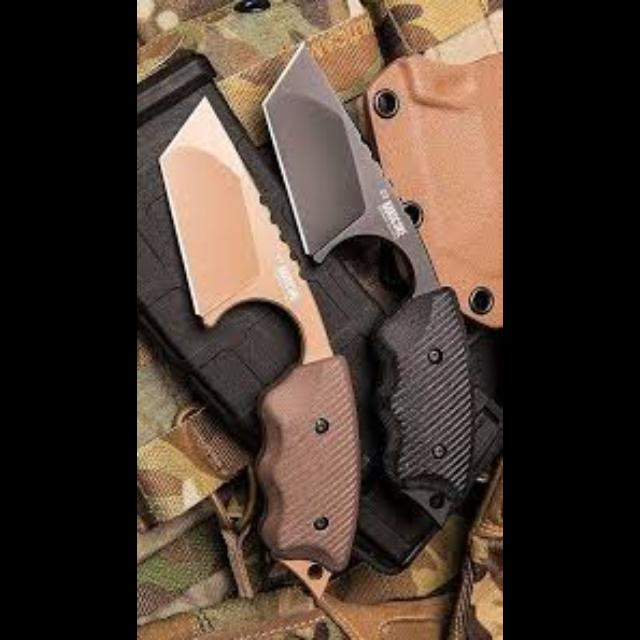knife: (260, 37, 502, 571), (161, 115, 363, 583)
